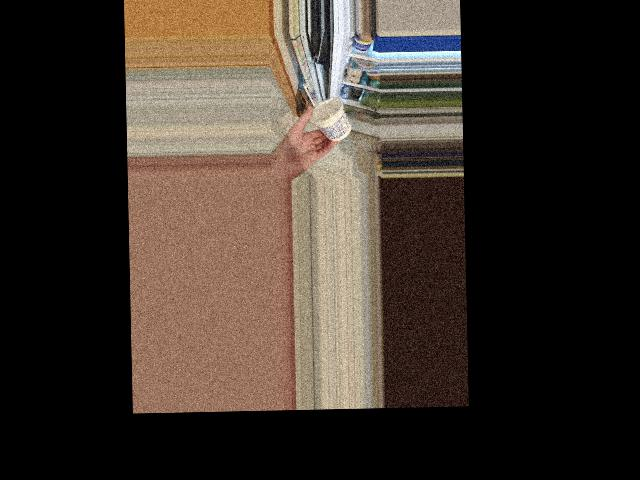cotage: (311, 95, 349, 138)
